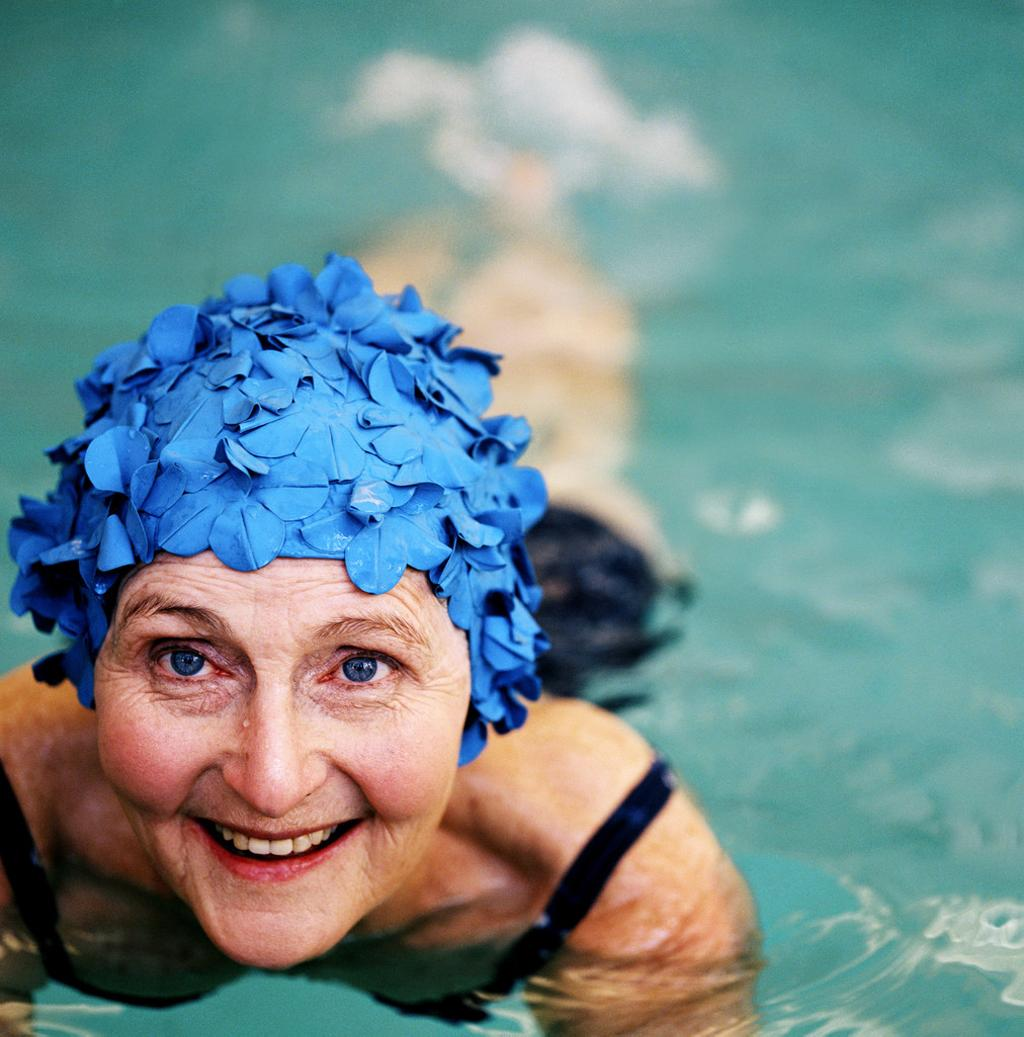face: (99, 561, 459, 972)
